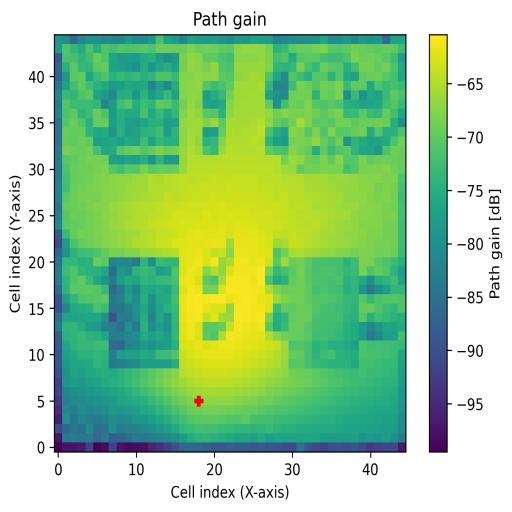Concrete: (289, 54, 358, 174)
Glass: (109, 53, 180, 173)
Metal: (288, 258, 360, 367)
Wood: (109, 258, 181, 369)
